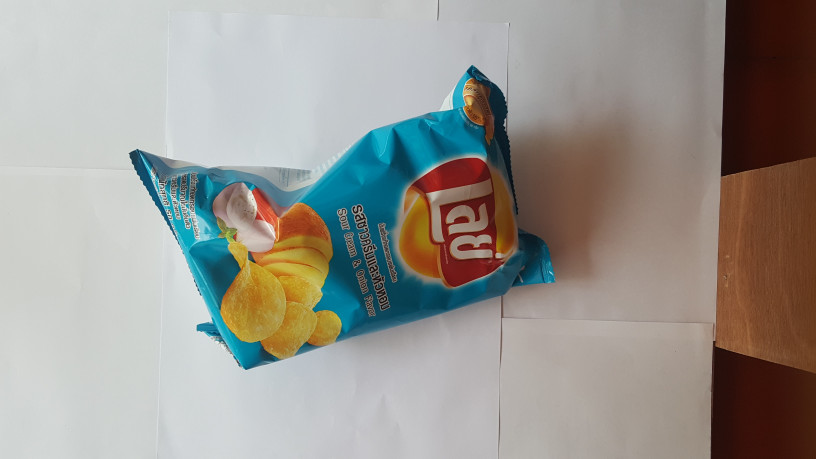lays-onion: (120, 49, 561, 385)
